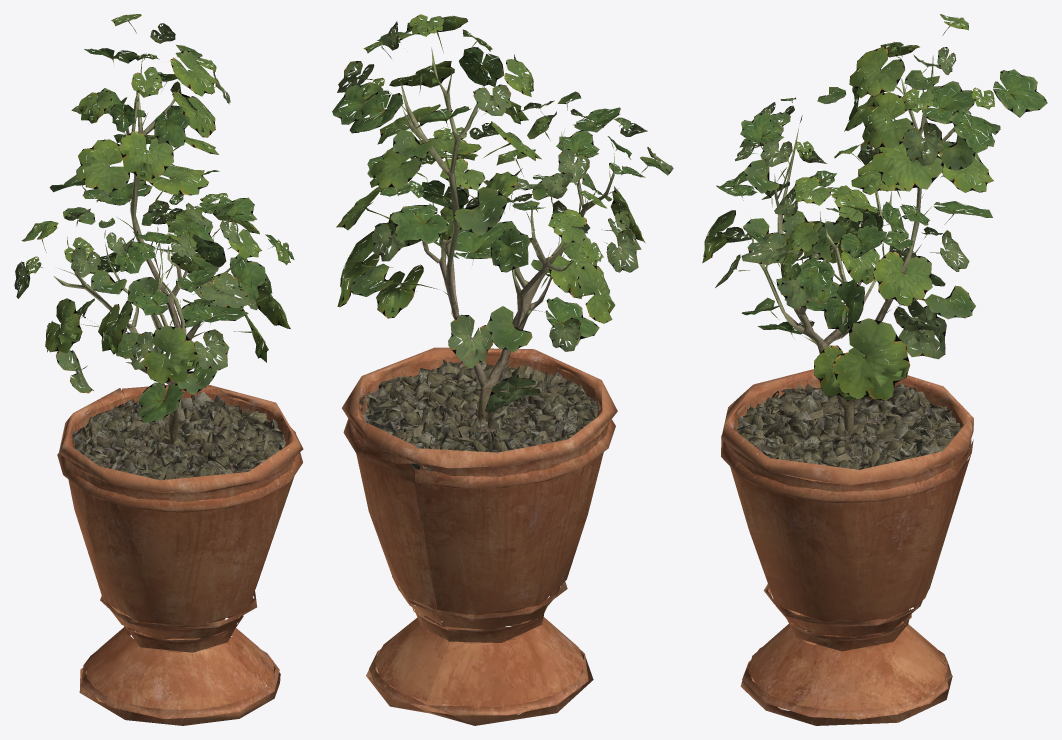
Rendered from plant_tall.glb.
3 views of the same model, side by side, from view 1: azimuth 30°, elevation 25°; view 2: azimuth 150°, elevation 25°; view 3: azimuth 270°, elevation 25° (orthographic). The views are drawn at different scales.
Parts seen in each view (by area): view 1: potted_plant_01_pebbles, potted_plant_01_leaves; view 2: potted_plant_01_pebbles, potted_plant_01_leaves; view 3: potted_plant_01_pebbles, potted_plant_01_leaves.
Boxes of the visible parts, x1,y1,x2,y2 form: potted_plant_01_pebbles: (53,55,303,725); potted_plant_01_leaves: (14,14,294,422); potted_plant_01_pebbles: (342,47,617,725); potted_plant_01_leaves: (332,14,673,413); potted_plant_01_pebbles: (721,55,973,725); potted_plant_01_leaves: (702,14,1047,400).
Bounding box in the file's own units: 0.5854 × 1.34 × 0.6305.
2 materials, 2 textured.
